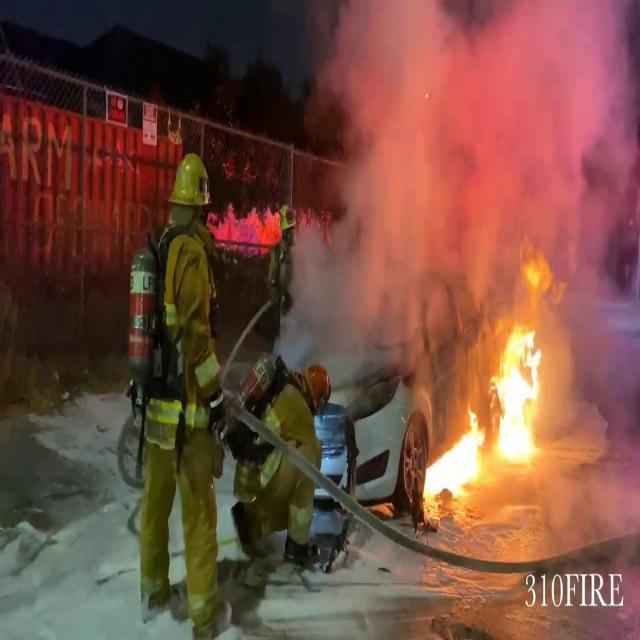Fire: (419, 253, 579, 512)
Smoke: (282, 0, 640, 373)
